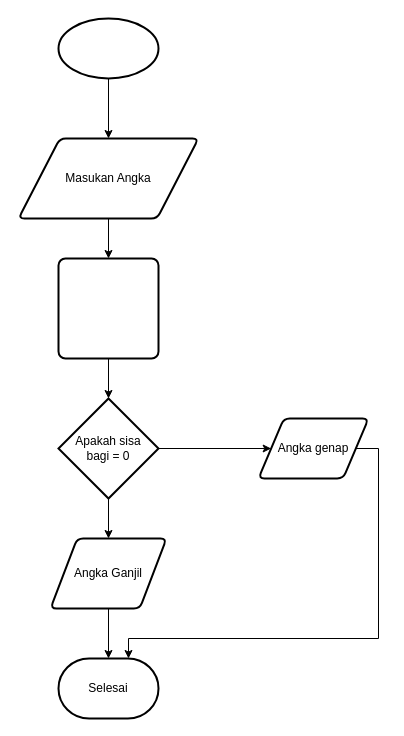
Some shapes in this 404 by 736 pixel diagram are drawn without their labels. Each missing label, with the box of its shape:
Bagi bilangan dengan 2 menggunakan modulus: (57, 257, 159, 359)
Mulai: (57, 17, 159, 79)
